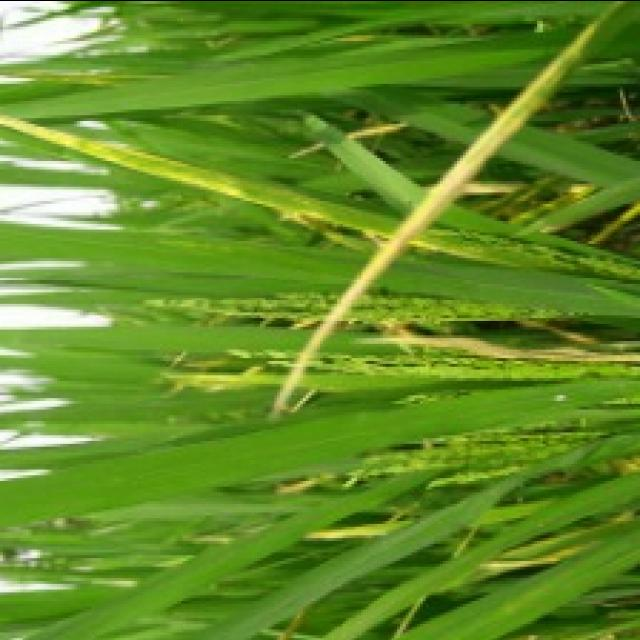Unhealthy: (270, 19, 601, 415), (0, 112, 275, 204), (356, 335, 640, 362), (482, 537, 601, 566), (301, 526, 385, 538)
